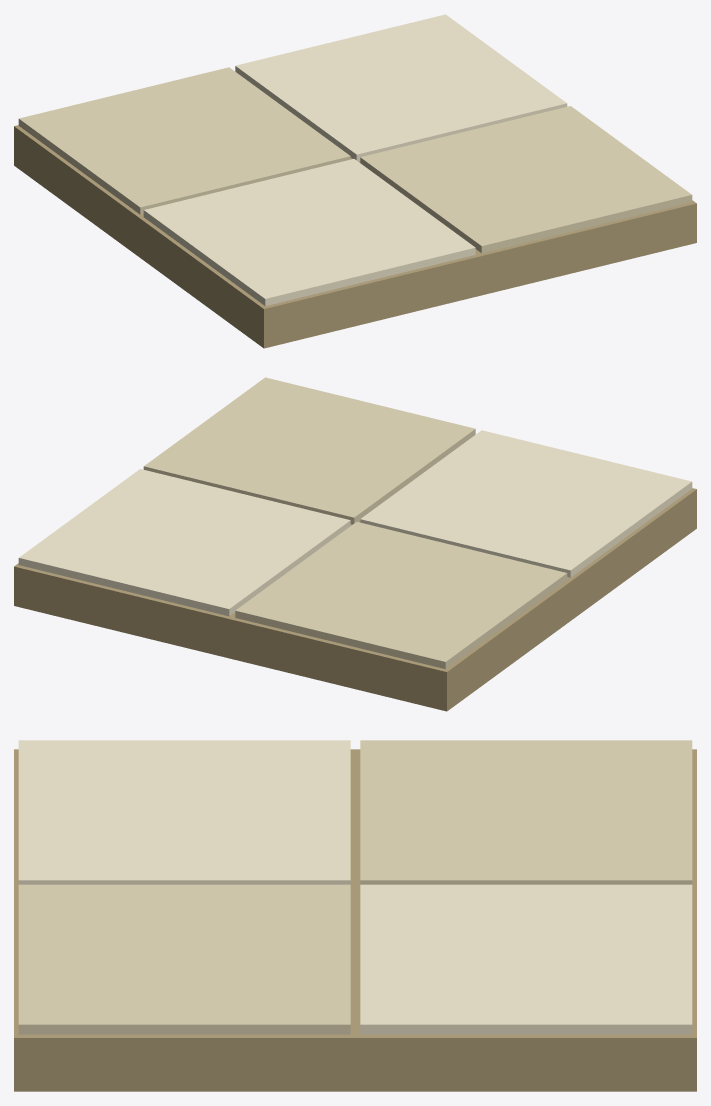
The model's file is path.glb.
3 views of the same model, one above another, from view 1: azimuth 30°, elevation 25°; view 2: azimuth 150°, elevation 25°; view 3: azimuth 270°, elevation 25° (orthographic). The views are drawn at different scales.
Visible parts, largest first — view 1: Shared_path; view 2: Shared_path; view 3: Shared_path.
Part boxes in pixels (x1,y1,x2,y2): Shared_path: (14, 14, 696, 348); Shared_path: (14, 377, 696, 711); Shared_path: (14, 740, 696, 1091).
Size of the model in its own units: 2 by 0.21 by 2.
